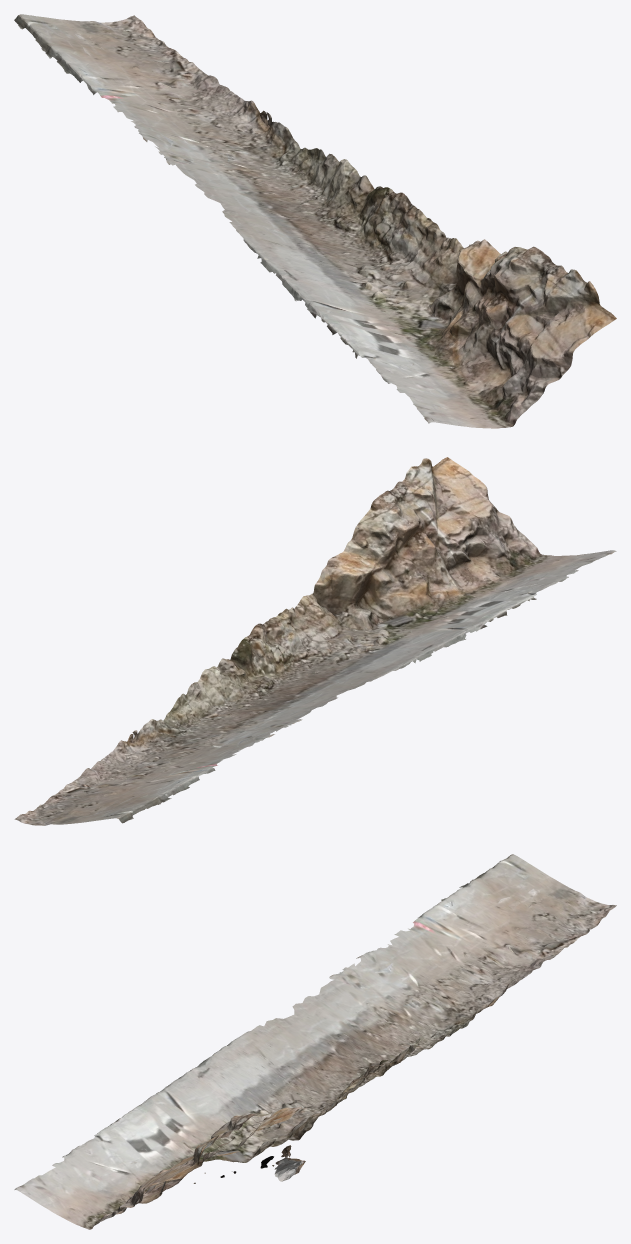
The picture shows the model from 3 angles, top to bottom: view 1: azimuth 30°, elevation 25°; view 2: azimuth 150°, elevation 25°; view 3: azimuth 330°, elevation 25°; orthographic projection. The views are drawn at different scales.
Bounding box in the file's own units: 2.28 × 1.35 × 10.11.
Materials: 1 (1 with a texture image).
